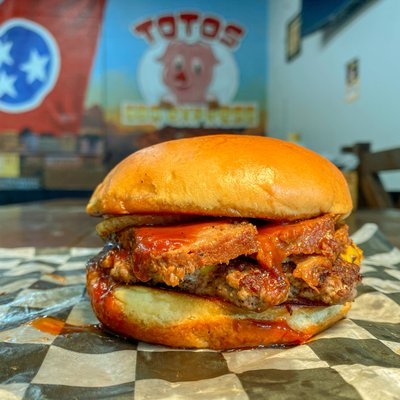soup: (83, 134, 366, 353)
